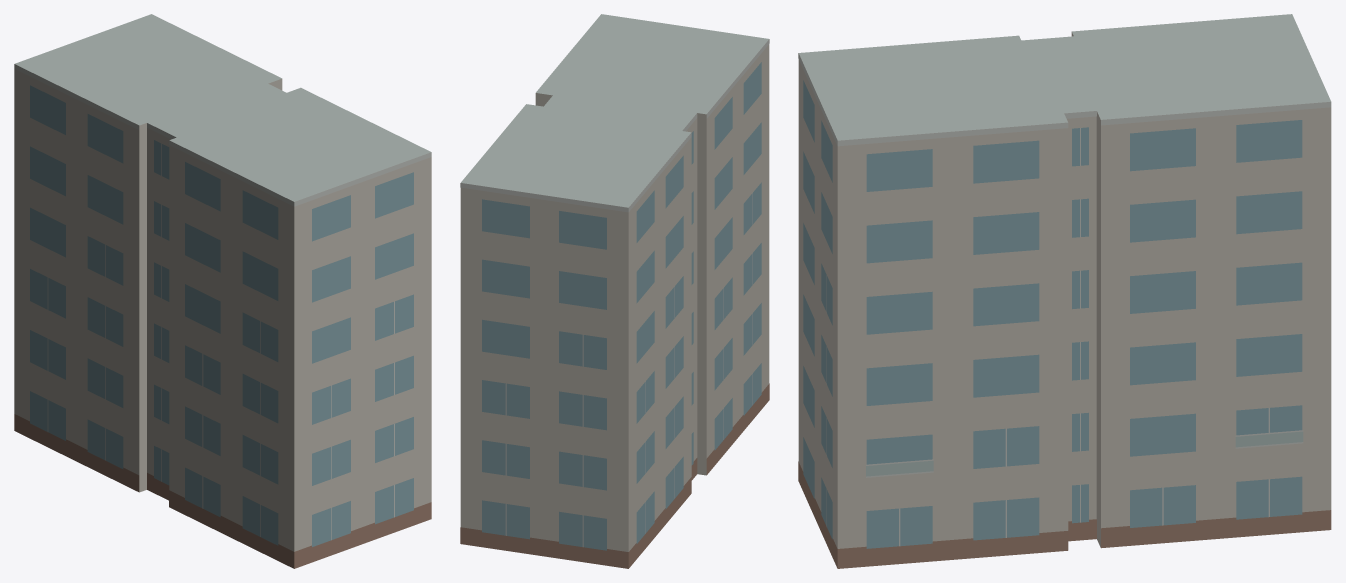
Rendered from survey-upis-32638280.glb.
The picture shows the model from 3 angles, left to right: view 1: azimuth 30°, elevation 25°; view 2: azimuth 150°, elevation 25°; view 3: azimuth 270°, elevation 25°; orthographic projection. The views are drawn at different scales.
Parts seen in each view (by area): view 1: survey-upis-32638280.tmp; view 2: survey-upis-32638280.tmp; view 3: survey-upis-32638280.tmp.
Part boxes in pixels (x1,y1,x2,y2): survey-upis-32638280.tmp: (14, 14, 431, 568); survey-upis-32638280.tmp: (460, 14, 769, 568); survey-upis-32638280.tmp: (798, 14, 1331, 568).
Size of the model in its own units: 11.88 by 18.7 by 21.1.
